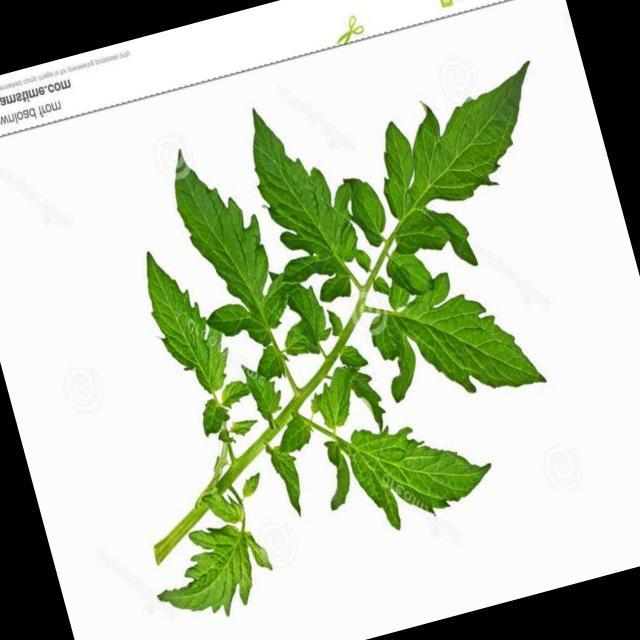Healthy Leaf: (232, 85, 382, 325), (160, 131, 308, 362), (300, 392, 508, 548), (372, 55, 565, 222), (383, 248, 549, 422), (131, 485, 299, 639), (124, 244, 254, 420)
